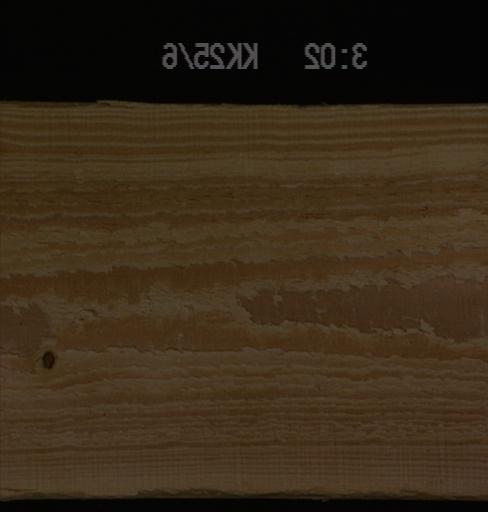dry_knot: (40, 346, 58, 372)
wave: (0, 473, 426, 503)
